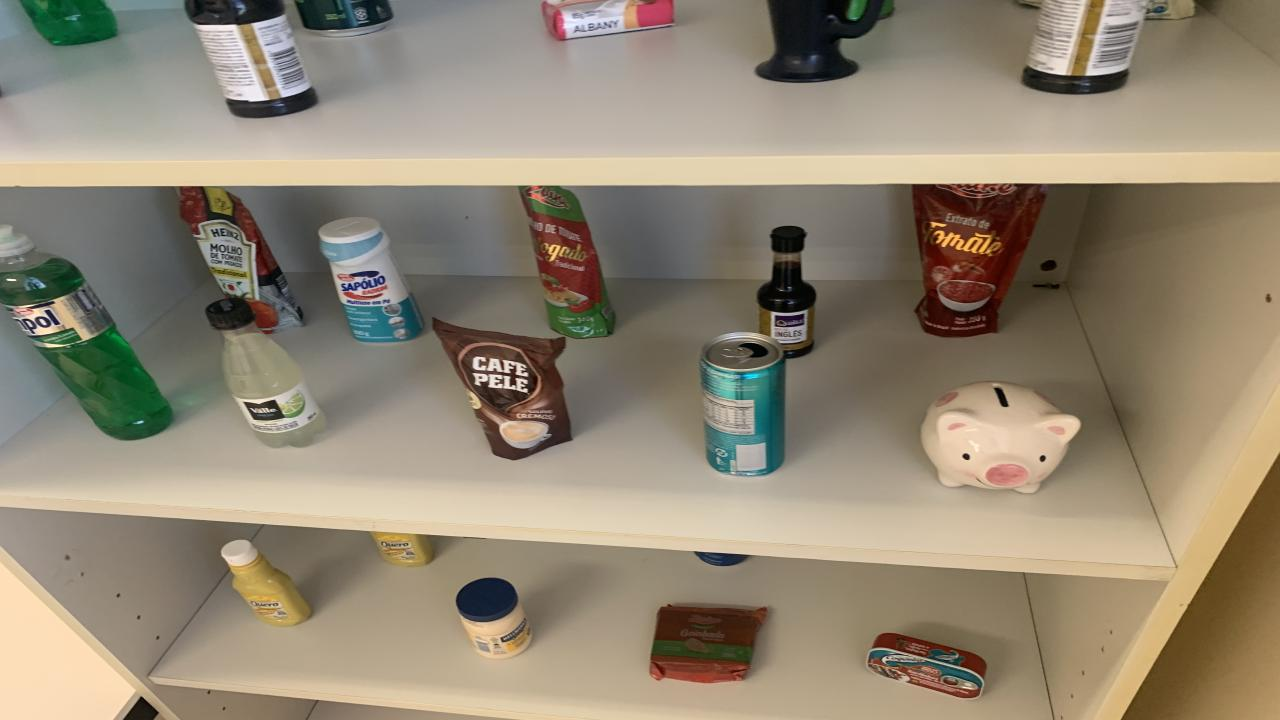Cleaner-Cleanup_Items: (320, 218, 425, 343)
Coffee-Pantry_Items: (432, 319, 572, 459)
Detergent-Cleanup_Items: (0, 227, 172, 439), (20, 0, 118, 45)
English_Sauce-Pantry_Items: (185, 0, 318, 118), (1022, 0, 1148, 94), (758, 227, 815, 358)
Flakes-Snacks: (1145, 0, 1195, 19)
Guarana_Can-Drinks: (295, 0, 392, 38)
Guava-Snacks: (650, 606, 768, 682)
Mayonnaise-Pantry_Items: (455, 578, 530, 658)
Mustard-Pantry_Items: (220, 540, 312, 626), (372, 532, 432, 566)
Pig_Safe-Miscellaneous: (920, 382, 1080, 493)
Pringles-Snacks: (845, 0, 868, 21), (880, 0, 895, 19)
Soap-Cleanup_Items: (542, 0, 675, 39)
Soda-Drinks: (205, 296, 325, 446)
Tea-Drinks: (700, 332, 785, 476)
Tomato_Sauce-Pantry_Items: (912, 184, 1048, 338), (180, 186, 302, 334), (520, 186, 615, 338)
Tonic-Drinks: (695, 551, 748, 566)
Tuna_Can-Pantry_Items: (868, 634, 988, 698)
